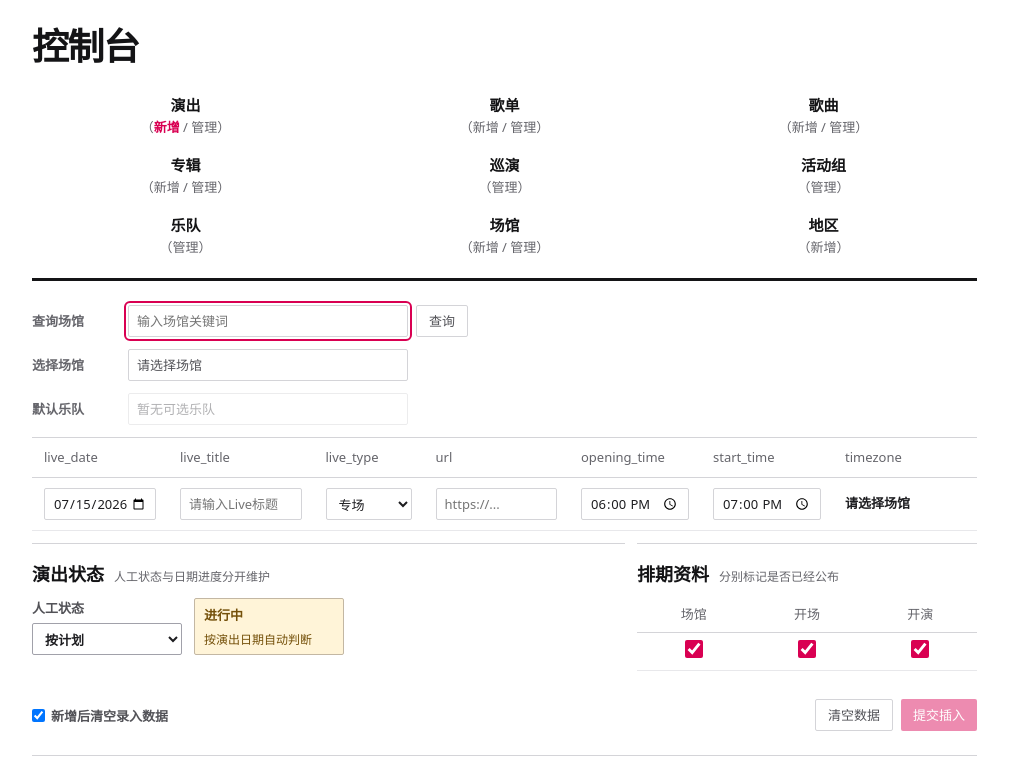
Test: ConsoleInsertPanel › venue selection displays timezone without changing visitor date rules
Type "2026-07-14" into the date field named "live_date".
click(100, 504); type("2026-07-14")  # box left=44, top=488, right=156, bottom=520
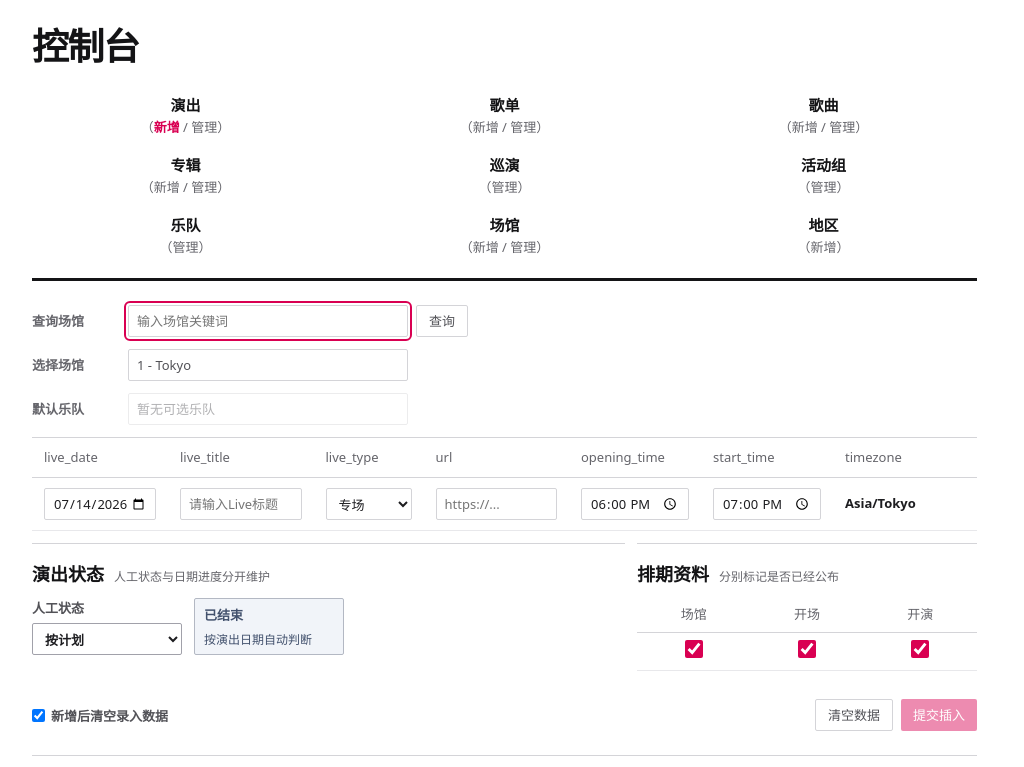
Expected: the text "Asia/Tokyo" is shown, left=845, top=494, right=916, bottom=512
Expected: the element named "日期阶段：已结束（只读）" shows "已结束", left=204, top=606, right=243, bottom=624
Click the button "1 - Tokyo".
click(164, 365)  # box left=128, top=349, right=408, bottom=381
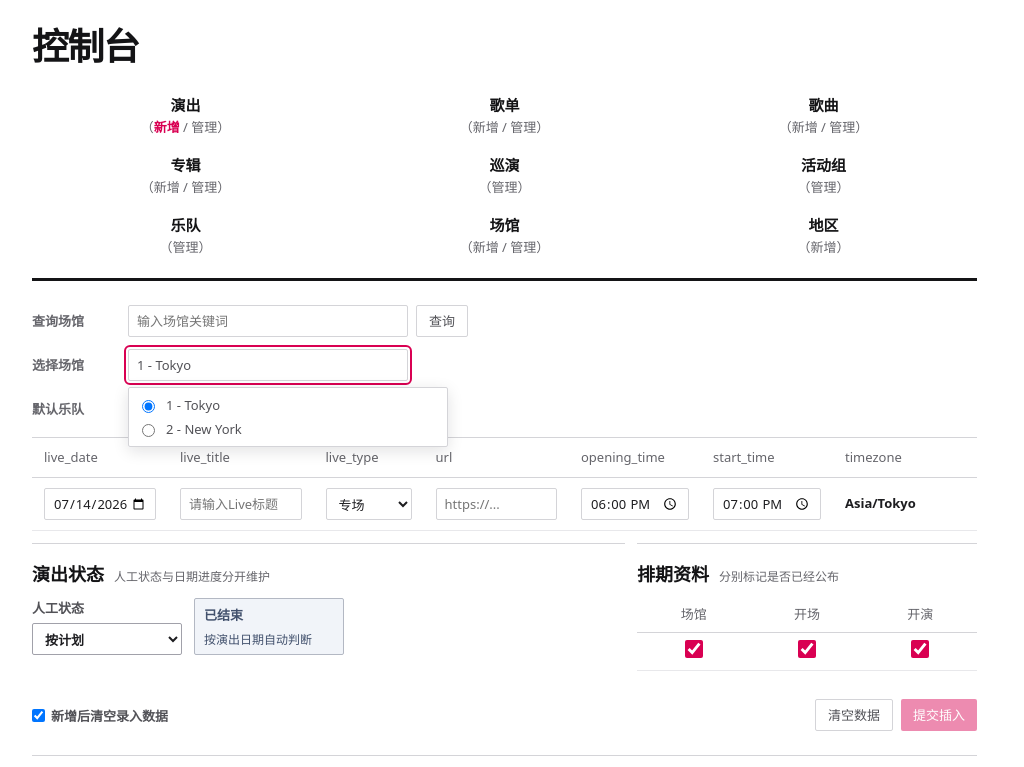
Click the radio button labelled "2 - New York".
click(148, 430)  # box left=142, top=424, right=155, bottom=437
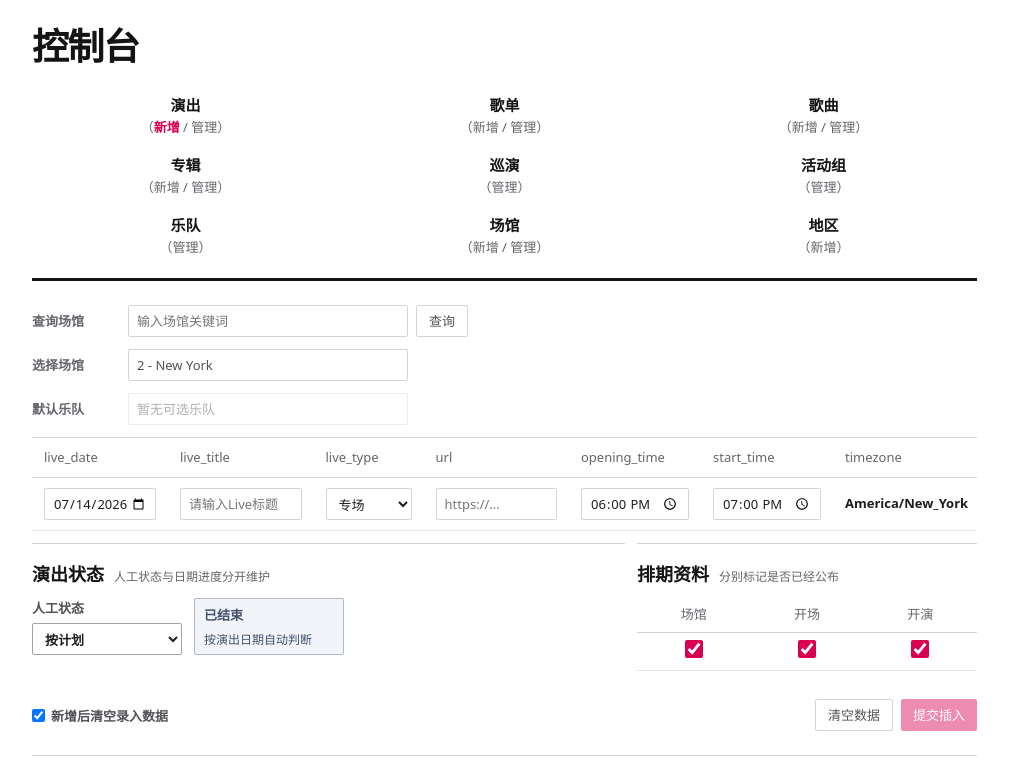
Expected: the element named "日期阶段：已结束（只读）" shows "已结束", left=204, top=606, right=243, bottom=624
Expected: the text "America/New_York" is shown, left=845, top=494, right=965, bottom=514
